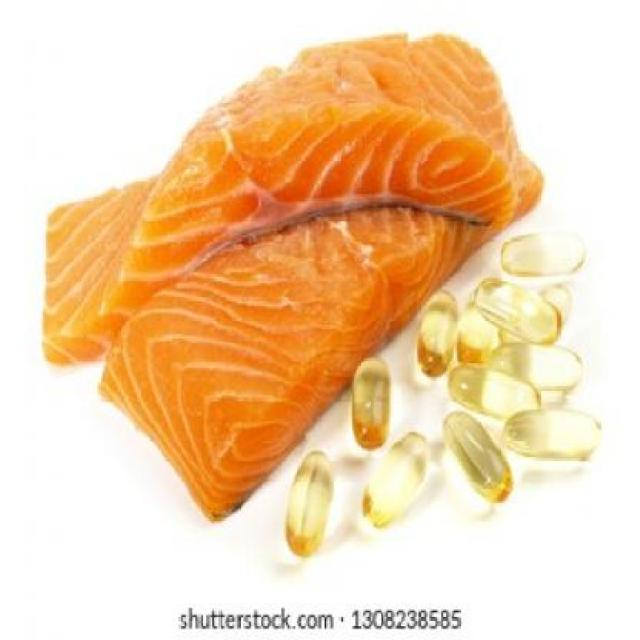salmon: (90, 127, 558, 506), (37, 23, 531, 350)
